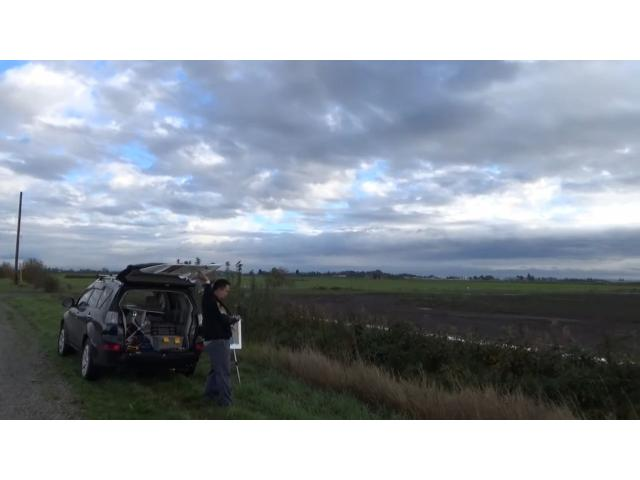Anti-Drone: (139, 261, 223, 285)
